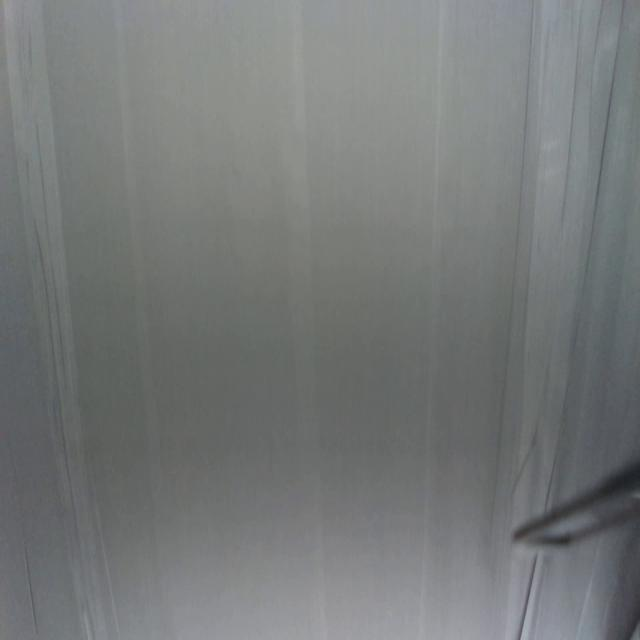crease: (4, 2, 107, 640), (553, 0, 626, 466), (112, 3, 168, 501), (290, 0, 332, 623), (486, 0, 533, 544), (415, 0, 446, 640), (560, 3, 582, 227), (575, 543, 604, 640), (586, 0, 605, 144), (511, 423, 543, 492), (516, 552, 538, 640)
